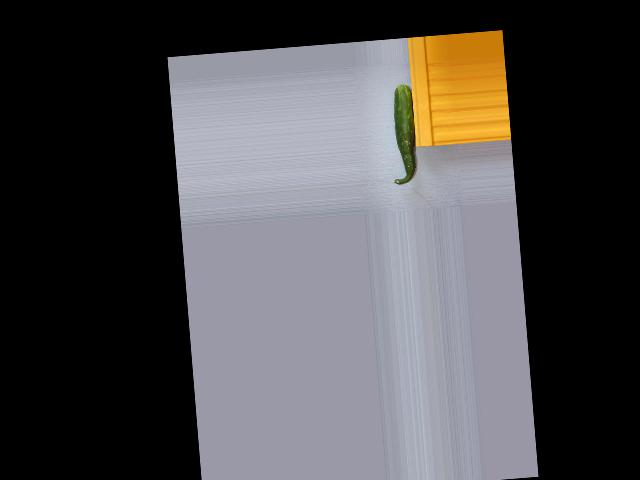cucumber: (386, 84, 419, 185)
